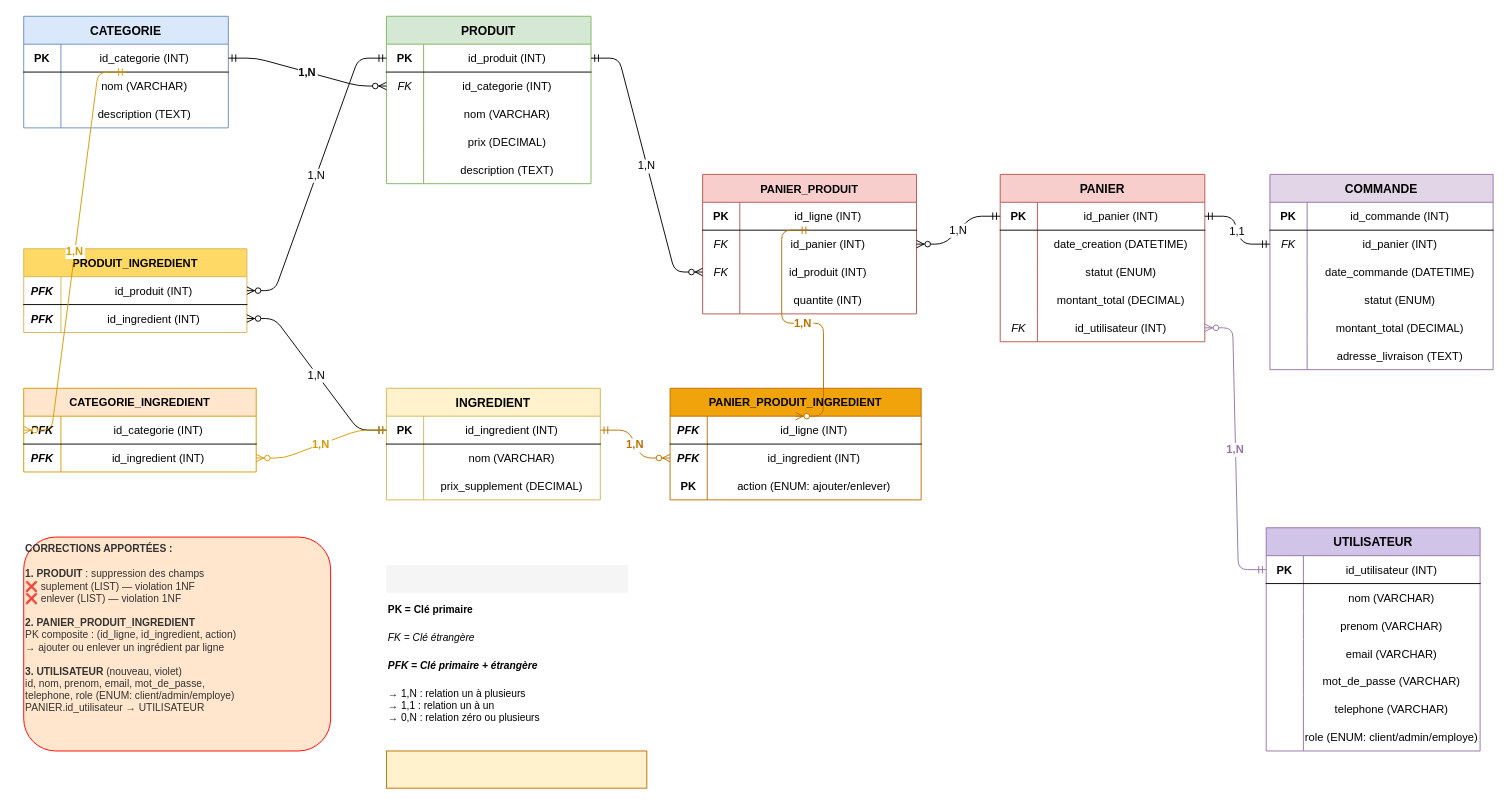
The diagram is 1509 pixels wide and 804 high, and some of its shapes have lost their labels. Here are the shapes that lost their labels. From the top down, the centre of each, then its label:
At pixel 507 578: "LÉGENDE".
At pixel 516 769: "🆕 orange = PANIER_PRODUIT_INGREDIENT 🆕 violet = UTILISATEUR (nouveau)".
